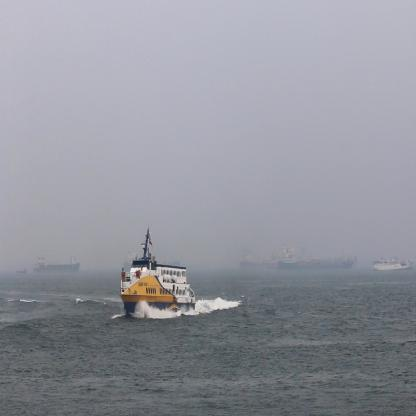Container Ship: (280, 247, 355, 272), (124, 249, 181, 270), (34, 258, 82, 274), (372, 254, 414, 272), (240, 250, 269, 272), (270, 255, 280, 271), (16, 266, 27, 275)
